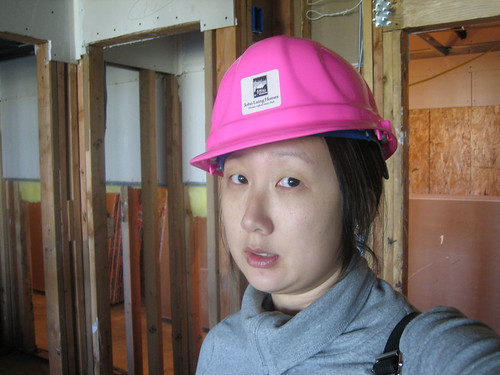person hardhat: (186, 35, 430, 375)
